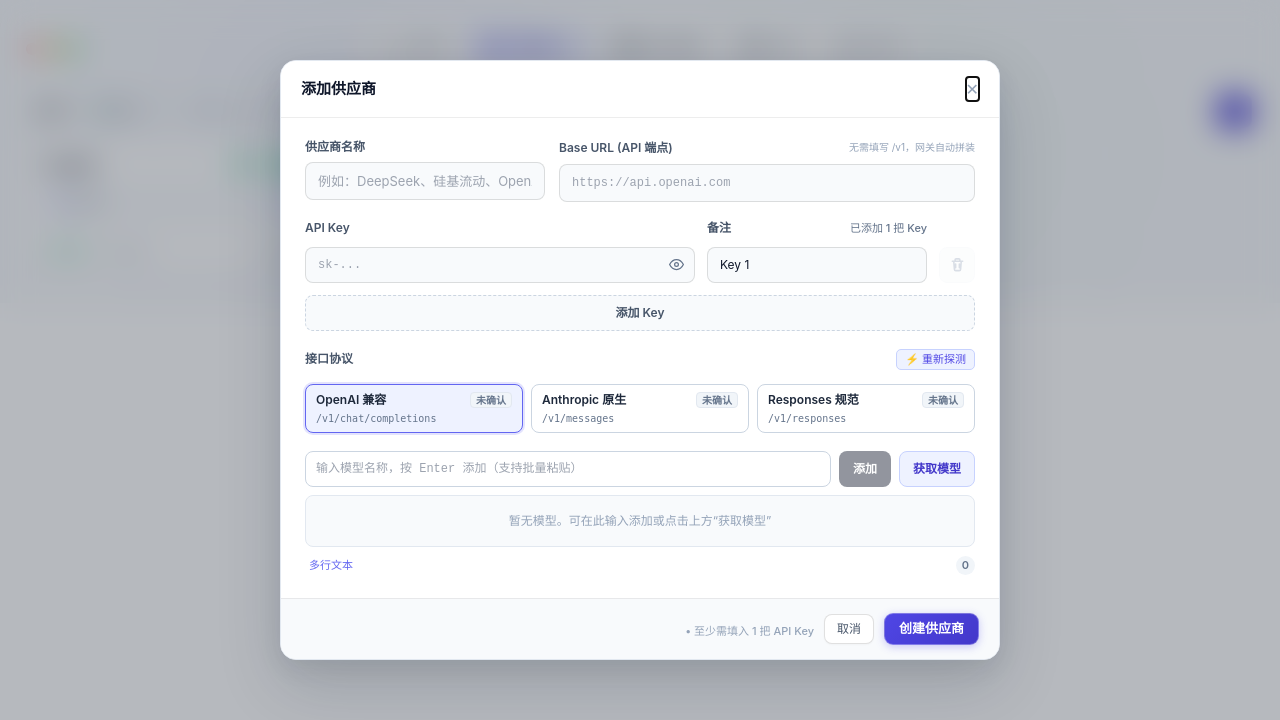
Test: GatewayView channel persistence › does not persist detection results from an unsaved new channel
Type "https://new.test" into the field with placeholder "https://api.openai.com" at (767, 183), box [559, 164, 975, 202]
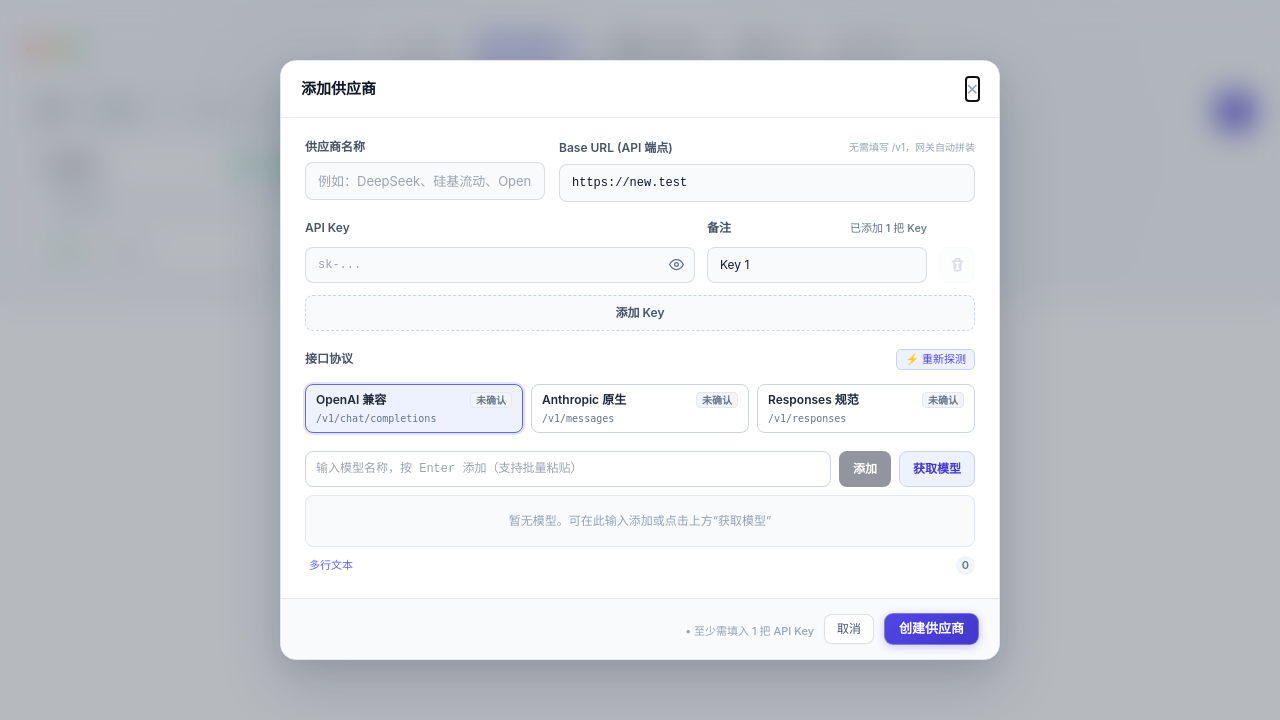
Click the button with class "supplier-detect-btn" at (936, 360), box [896, 349, 975, 370]
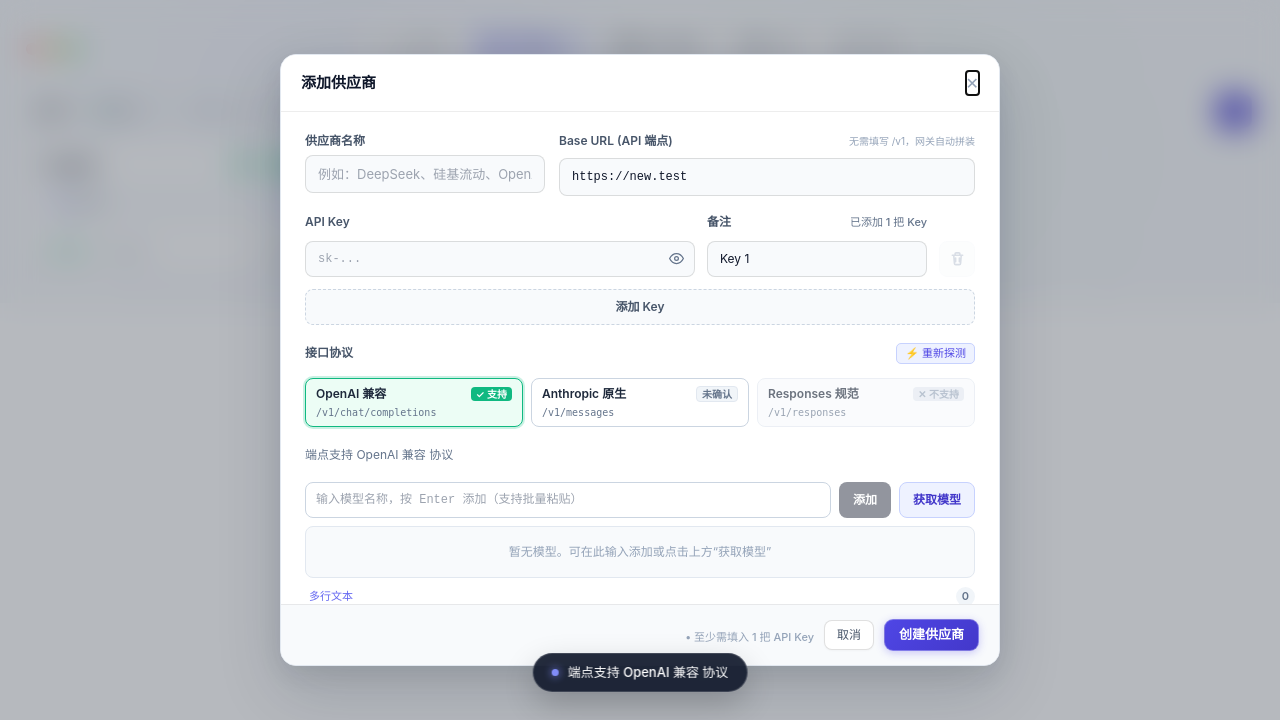
Expected: the element with class "supplier-proto-card" shows "支持", [476, 388, 507, 400]
